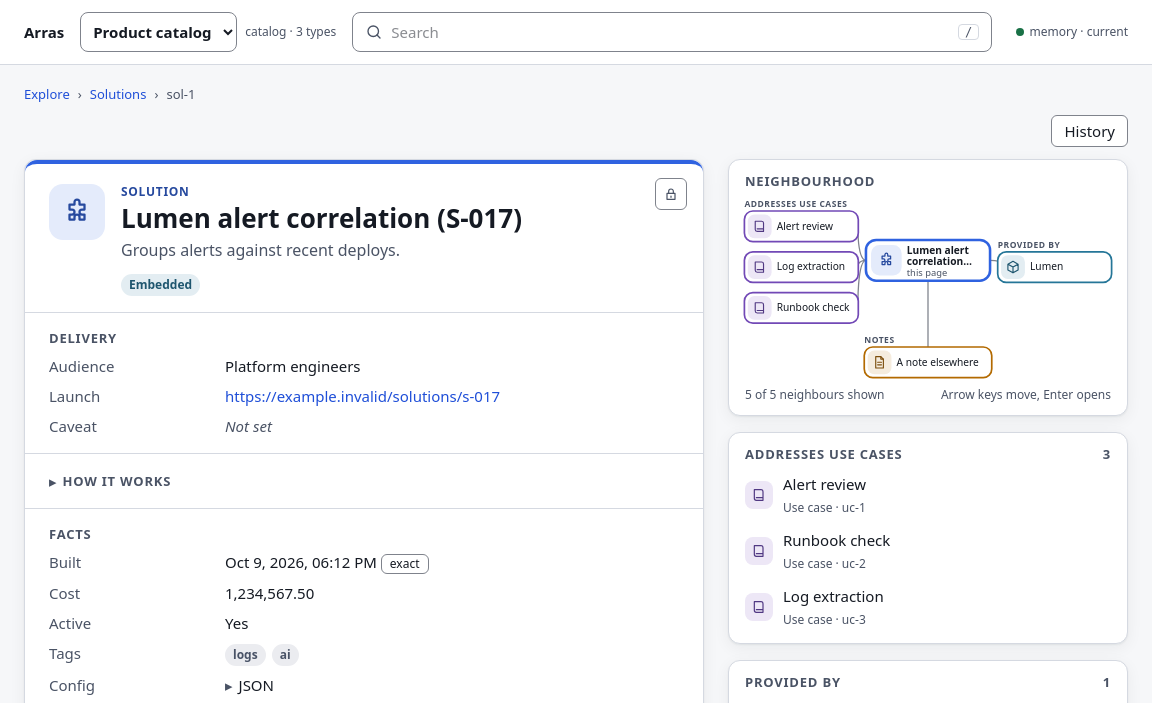
Scenario: Retire on a node page (FR-68) › offers the menu with Retire in edit mode where a declared action deletes the type
This screenshot has width=1152, height=703.
Check: the heading "Lumen alert correlation (S-017)" is shown, box 121,200 -> 522,236
Click the button named "Edit mode" at (671, 194), box 655,178 -> 687,210
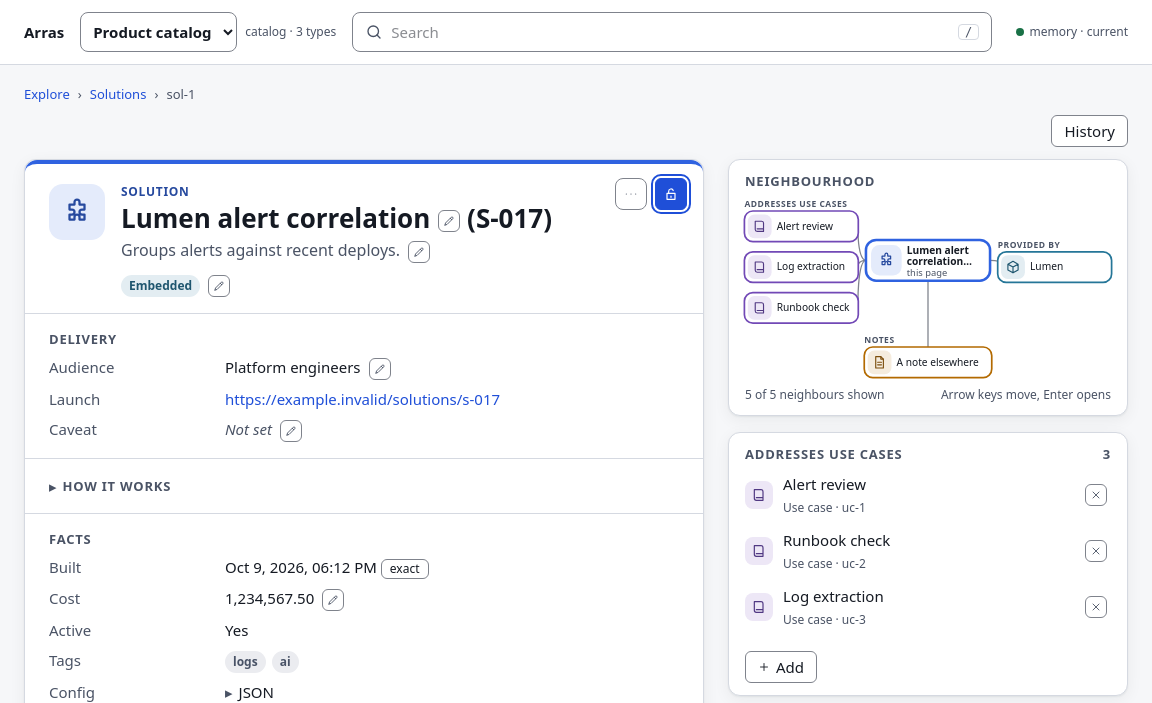
Click the button named "Entity menu" at (631, 194), box 615,178 -> 647,210
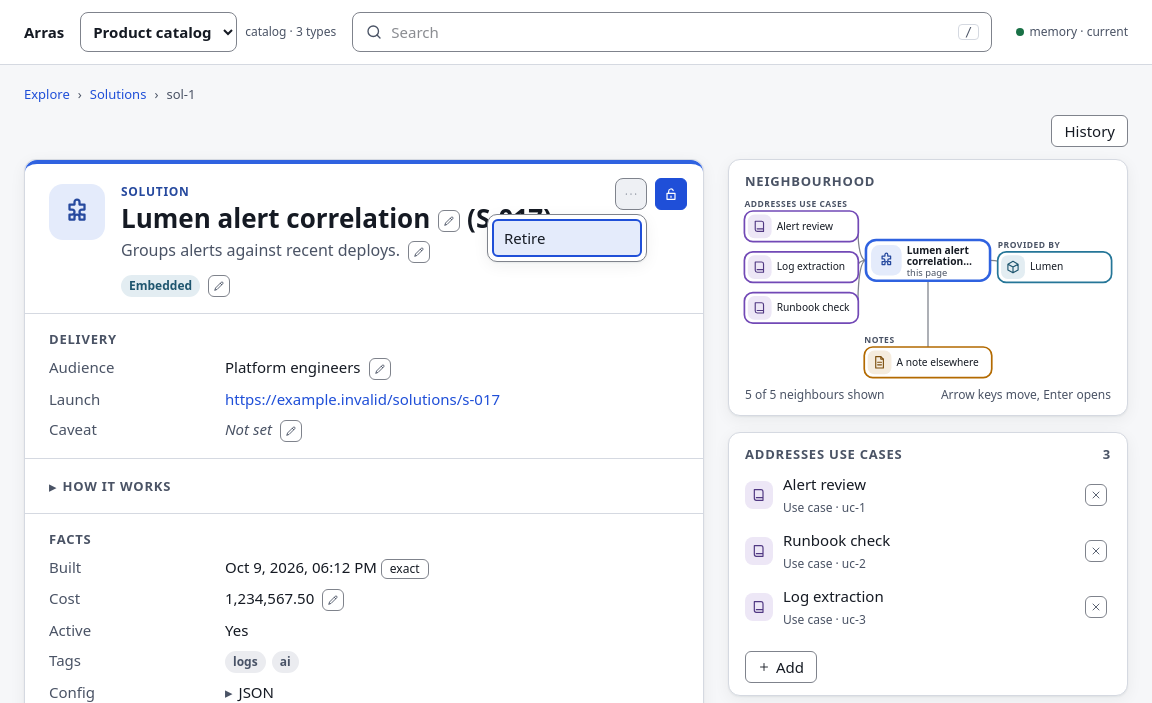
Check: the menu items read "Retire", in this order, box 492,219 -> 642,257
